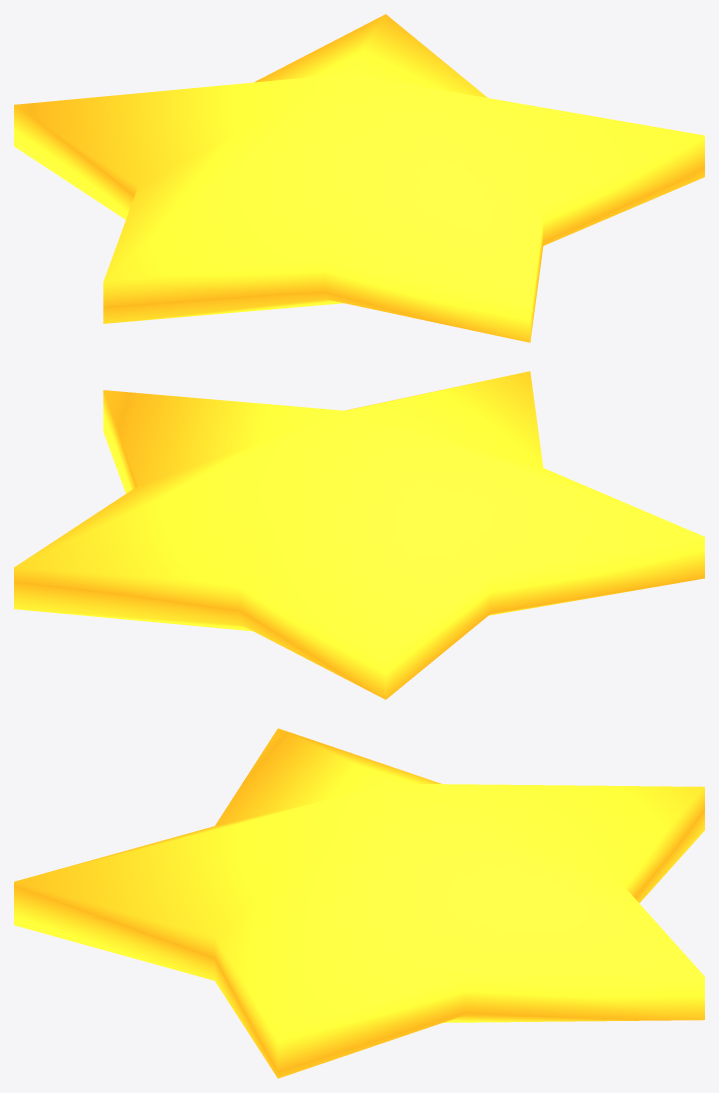
Rendered from star.glb.
3 views of the same model, one above another, from view 1: azimuth 30°, elevation 25°; view 2: azimuth 150°, elevation 25°; view 3: azimuth 270°, elevation 25° (orthographic). The views are drawn at different scales.
Visible parts, largest first — view 1: Circle; view 2: Circle; view 3: Circle.
Part boxes in pixels (x1,y1,x2,y2): Circle: (14, 14, 704, 342); Circle: (14, 371, 704, 699); Circle: (14, 728, 704, 1078).
Bounding box in the file's own units: 6.52 × 2.37 × 6.2.
